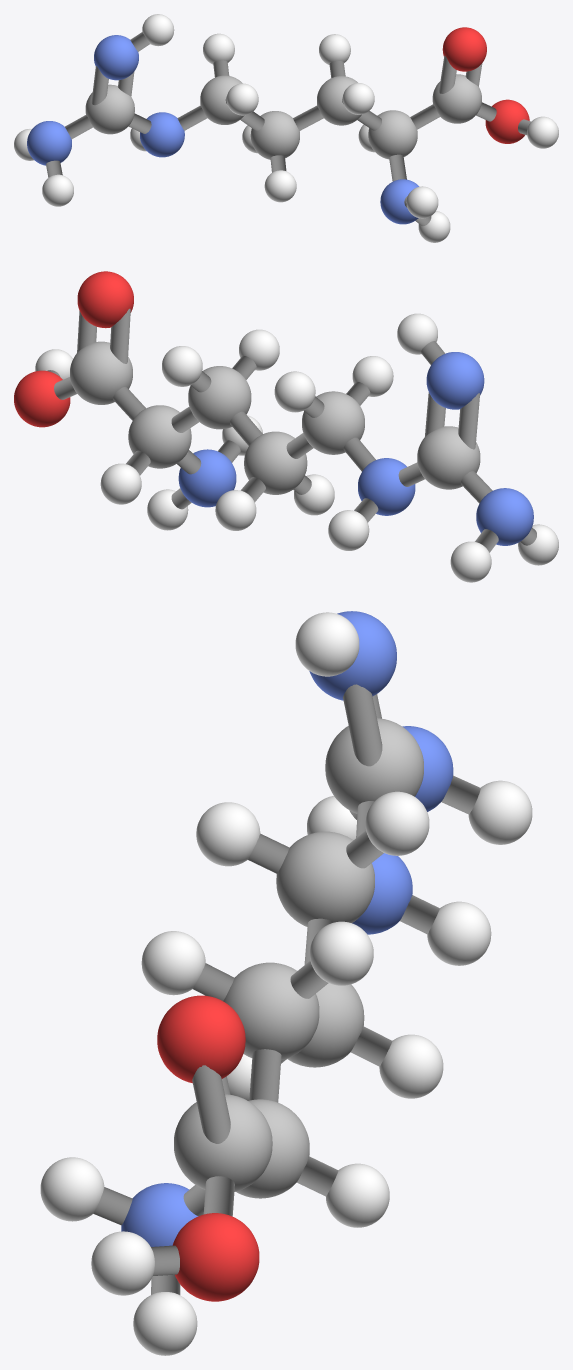
The model's file is arginine.glb.
3 views of the same model, one above another, from view 1: azimuth 30°, elevation 25°; view 2: azimuth 150°, elevation 25°; view 3: azimuth 270°, elevation 25° (orthographic). The views are drawn at different scales.
Visible parts, largest first — view 1: Object_2, Object_5, Object_7, Object_3, Object_4, Object_6; view 2: Object_2, Object_5, Object_7, Object_3, Object_4, Object_6; view 3: Object_2, Object_5, Object_7, Object_6, Object_3, Object_4.
Part boxes in pixels (<box>): Object_2: <box>85,74,481,159</box>; Object_5: <box>14,14,374,206</box>; Object_7: <box>46,32,531,225</box>; Object_3: <box>27,35,418,224</box>; Object_4: <box>442,27,529,143</box>; Object_6: <box>358,116,558,242</box>; Object_2: <box>70,341,480,494</box>; Object_5: <box>162,313,558,582</box>; Object_7: <box>47,308,536,552</box>; Object_3: <box>178,352,533,545</box>; Object_4: <box>14,271,133,427</box>; Object_6: <box>35,349,262,530</box>; Object_2: <box>174,718,423,1198</box>; Object_5: <box>141,612,532,1100</box>; Object_7: <box>93,684,480,1294</box>; Object_6: <box>40,1157,389,1355</box>; Object_3: <box>121,611,453,1246</box>; Object_4: <box>157,995,259,1301</box>.
Bounding box in the file's own units: 10.89 × 5.75 × 5.06.
